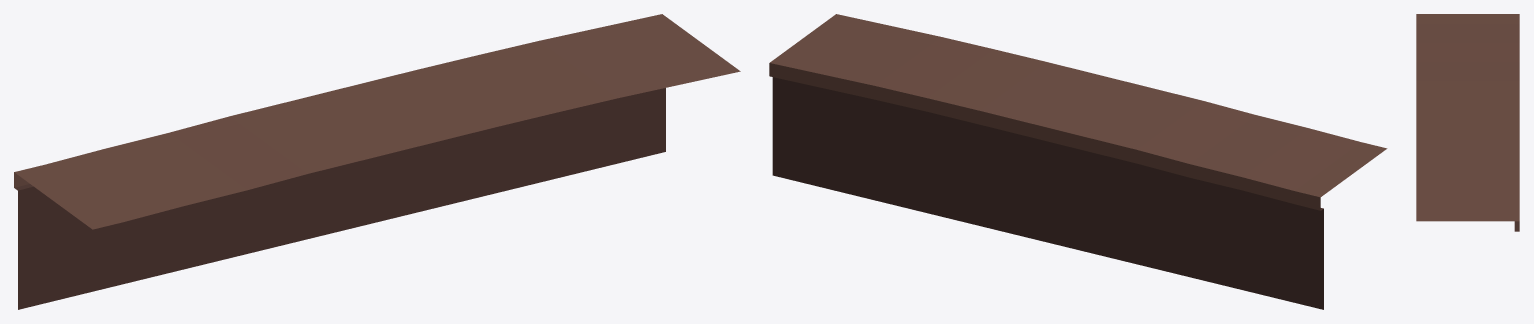
The model's file is Ground_2.fbx.
3 views of the same model, side by side, from view 1: azimuth 30°, elevation 25°; view 2: azimuth 150°, elevation 25°; view 3: azimuth 270°, elevation 25° (orthographic). The views are drawn at different scales.
Parts seen in each view (by area): view 1: Ground_2; view 2: Ground_2; view 3: Ground_2.
Part boxes in pixels (x1,y1,x2,y2): Ground_2: [14, 14, 740, 309]; Ground_2: [769, 14, 1387, 309]; Ground_2: [1416, 14, 1519, 231].
Size of the model in its own units: 1000 by 205 by 210.
Materials: 1 (1 with a texture image).
